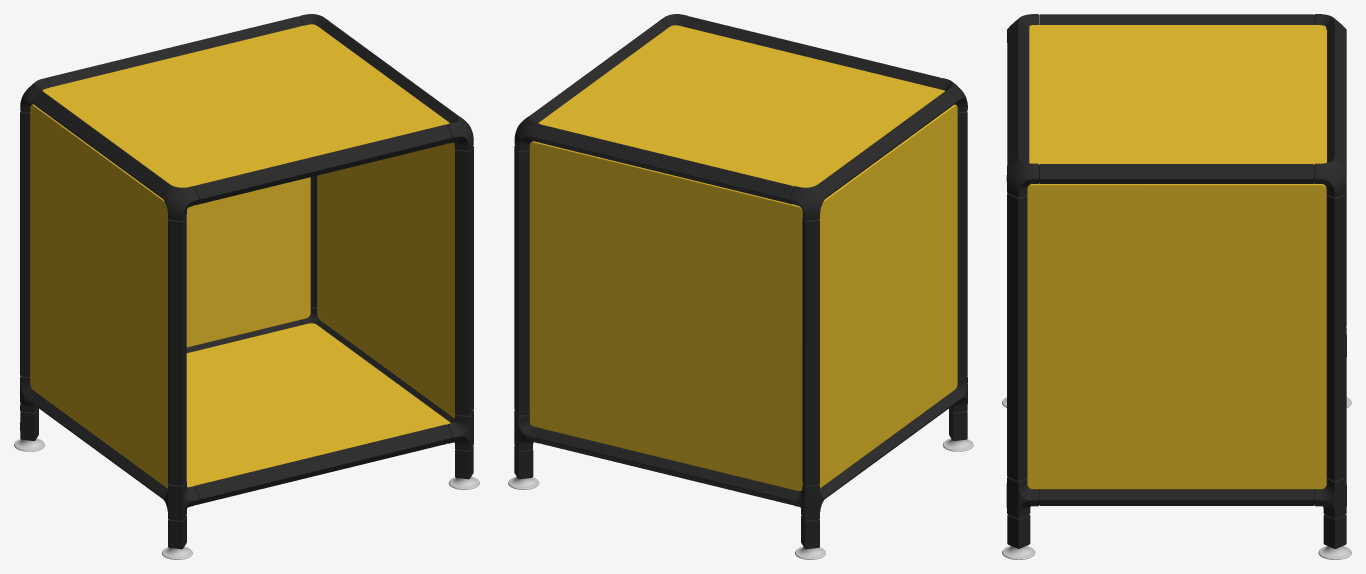
The picture shows the model from 3 angles, left to right: view 1: azimuth 30°, elevation 25°; view 2: azimuth 150°, elevation 25°; view 3: azimuth 270°, elevation 25°; orthographic projection. The views are drawn at different scales.
Parts seen in each view (by area): view 1: 374x329x374; view 2: 374x329x374; view 3: 374x329x374.
Part boxes in pixels (x1,y1,x2,y2): 374x329x374: (14,14,479,559); 374x329x374: (508,14,973,559); 374x329x374: (1002,14,1351,559).
Bounding box in the file's own units: 0.4639 × 0.5133 × 0.4181.
